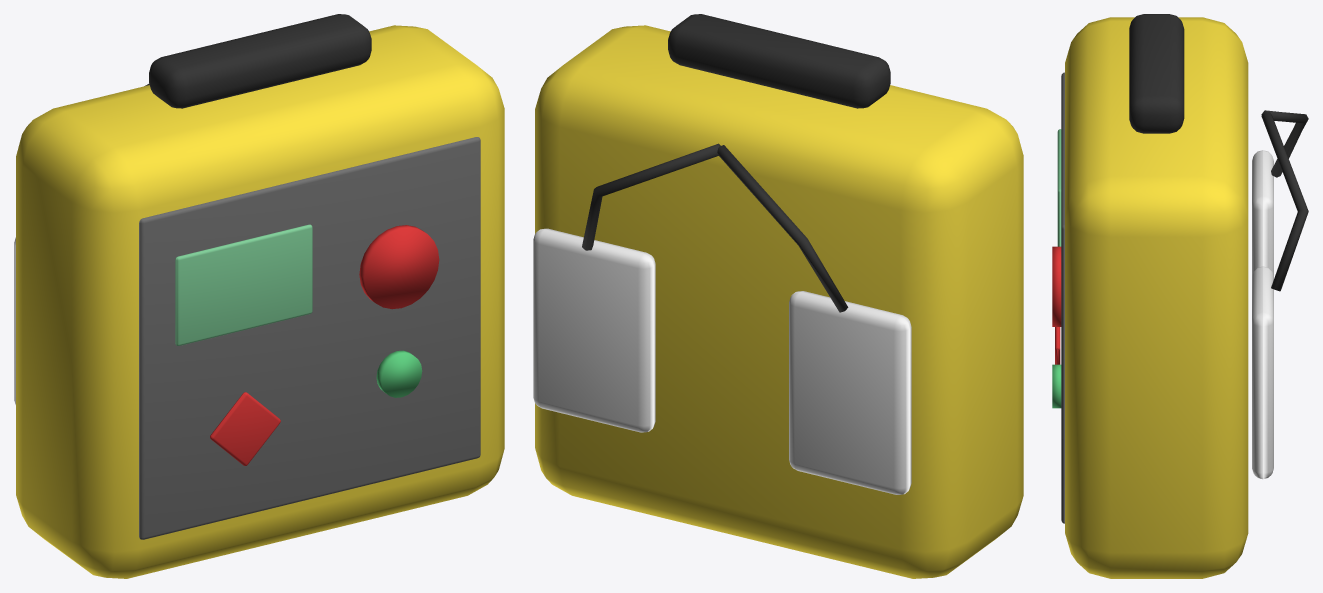
File: SM_Defib.glb
3 renders of one model, left to right at view 1: azimuth 30°, elevation 25°; view 2: azimuth 150°, elevation 25°; view 3: azimuth 270°, elevation 25°, orthographic. The views are drawn at different scales.
Parts seen in each view (by area): view 1: SM_Defib; view 2: SM_Defib; view 3: SM_Defib.
Boxes of the visible parts, x1,y1,x2,y2 form: SM_Defib: (14,14,504,578); SM_Defib: (533,14,1023,578); SM_Defib: (1052,14,1308,578).
Size of the model in its own units: 0.25 by 0.266 by 0.14.
